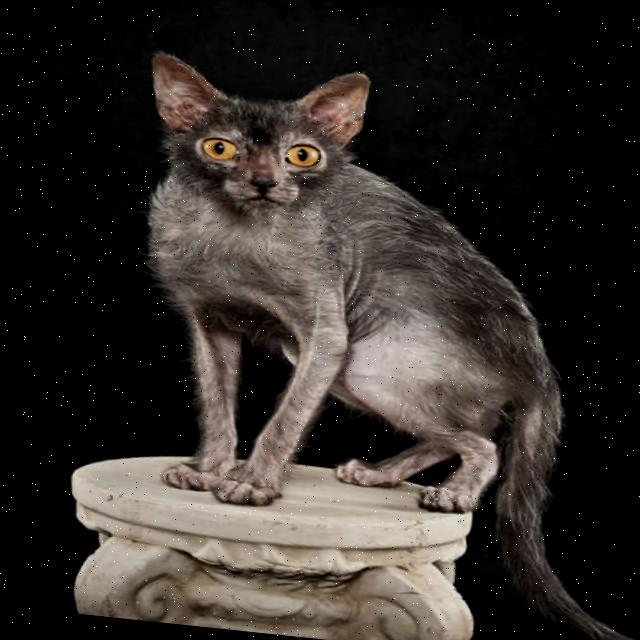Lykoi: (78, 39, 640, 640)
